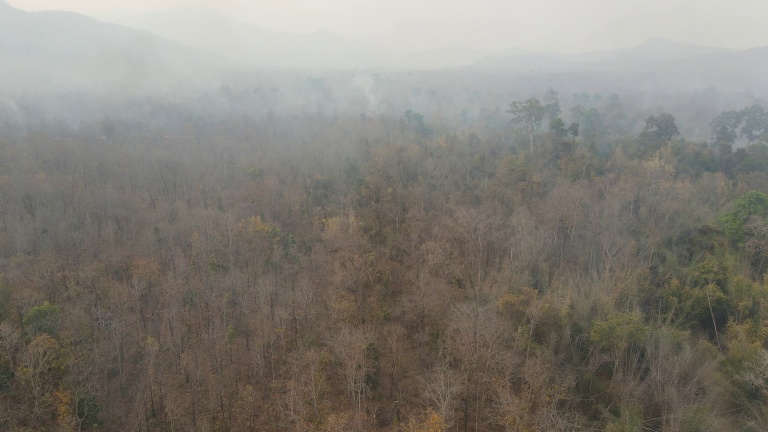fire: (12, 130, 203, 145)
smoke: (1, 1, 768, 151), (353, 73, 378, 120)
